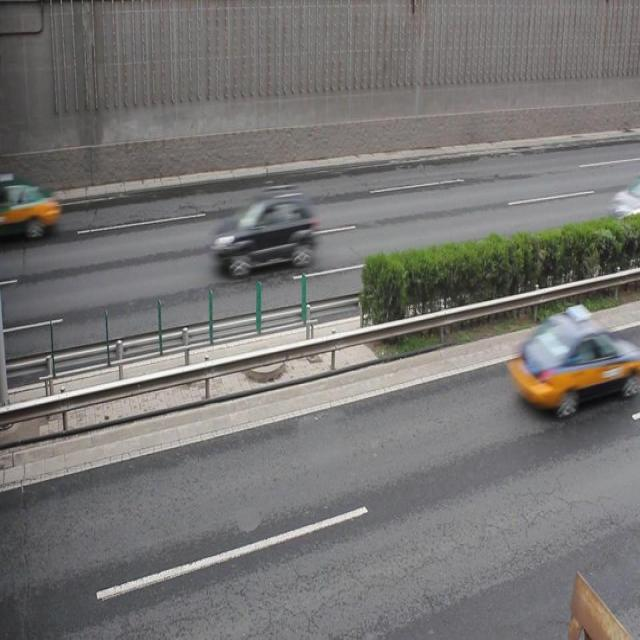car: (507, 308, 622, 416), (212, 194, 315, 277)
